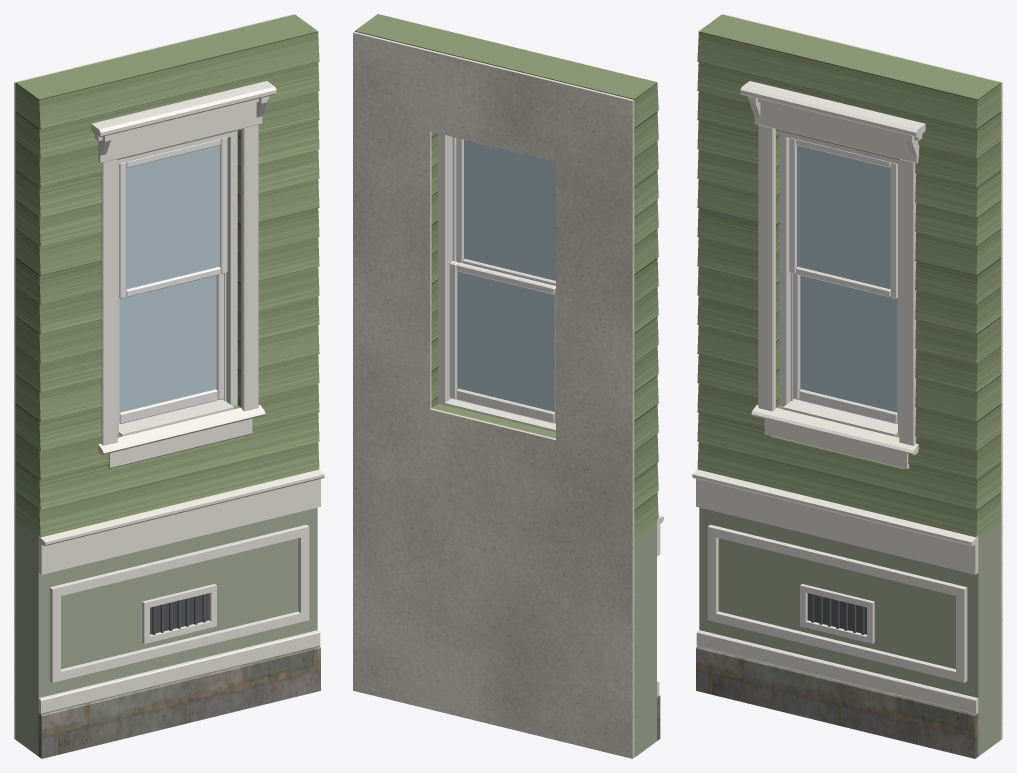
File: b_g_win_b.glb
The picture shows the model from 3 angles, left to right: view 1: azimuth 30°, elevation 25°; view 2: azimuth 150°, elevation 25°; view 3: azimuth 330°, elevation 25°; orthographic projection.
Visible parts, largest first — view 1: b_g_win_b_siding_b, b_g_win_b_trim, b_g_win_b_acc_b, b_g_win_b_glass, b_g_win_b_plinth, b_g_win_b_sash, b_g_win_b_frame, b_g_win_b_plaster, b_g_win_b_dark, b_g_win_b_iron; view 2: b_g_win_b_plaster, b_g_win_b_glass, b_g_win_b_siding_b, b_g_win_b_sash, b_g_win_b_acc_b, b_g_win_b_frame, b_g_win_b_trim; view 3: b_g_win_b_siding_b, b_g_win_b_trim, b_g_win_b_acc_b, b_g_win_b_glass, b_g_win_b_plinth, b_g_win_b_sash, b_g_win_b_frame, b_g_win_b_plaster, b_g_win_b_dark, b_g_win_b_iron.
Part boxes in pixels (<box>): b_g_win_b_siding_b: <box>16,14,319,537</box>; b_g_win_b_trim: <box>38,81,324,713</box>; b_g_win_b_acc_b: <box>16,507,317,756</box>; b_g_win_b_glass: <box>119,145,219,412</box>; b_g_win_b_plinth: <box>38,646,320,758</box>; b_g_win_b_sash: <box>119,137,227,423</box>; b_g_win_b_frame: <box>117,131,237,434</box>; b_g_win_b_plaster: <box>14,14,293,739</box>; b_g_win_b_dark: <box>150,593,209,634</box>; b_g_win_b_iron: <box>152,594,205,634</box>; b_g_win_b_plaster: <box>353,31,634,758</box>; b_g_win_b_glass: <box>457,139,555,411</box>; b_g_win_b_siding_b: <box>354,14,658,537</box>; b_g_win_b_sash: <box>449,138,555,423</box>; b_g_win_b_acc_b: <box>634,522,656,757</box>; b_g_win_b_frame: <box>438,133,456,404</box>; b_g_win_b_trim: <box>445,398,663,696</box>; b_g_win_b_siding_b: <box>697,14,1000,537</box>; b_g_win_b_trim: <box>692,81,978,713</box>; b_g_win_b_acc_b: <box>699,507,1000,756</box>; b_g_win_b_glass: <box>797,145,897,412</box>; b_g_win_b_plinth: <box>696,646,978,758</box>; b_g_win_b_sash: <box>789,137,897,423</box>; b_g_win_b_frame: <box>779,131,899,434</box>; b_g_win_b_plaster: <box>723,14,1002,739</box>; b_g_win_b_dark: <box>807,593,866,634</box>; b_g_win_b_iron: <box>811,594,864,634</box>.
Bounding box in the file's own units: 2 × 4.5 × 0.43.
10 materials, 3 textured.
